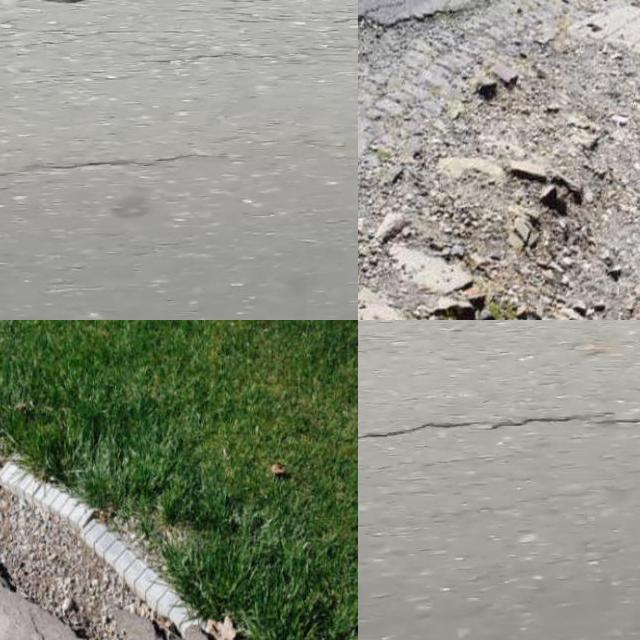Pinggir: (358, 0, 640, 320), (0, 440, 261, 640)
